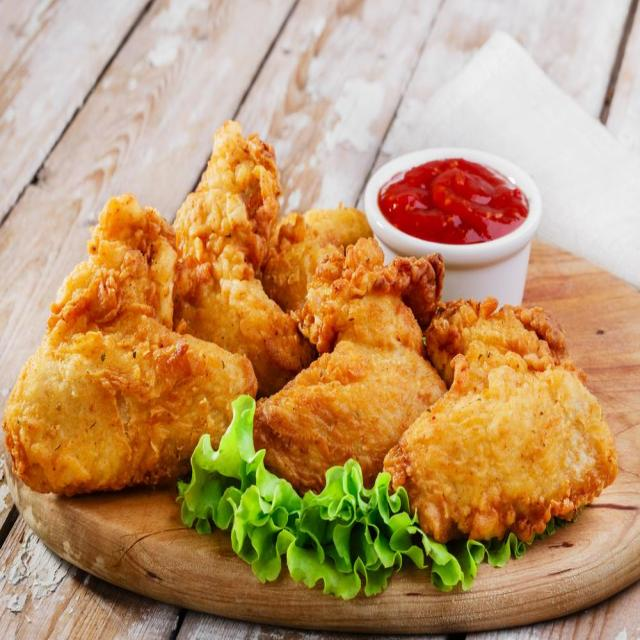Frango: (0, 191, 257, 493)
